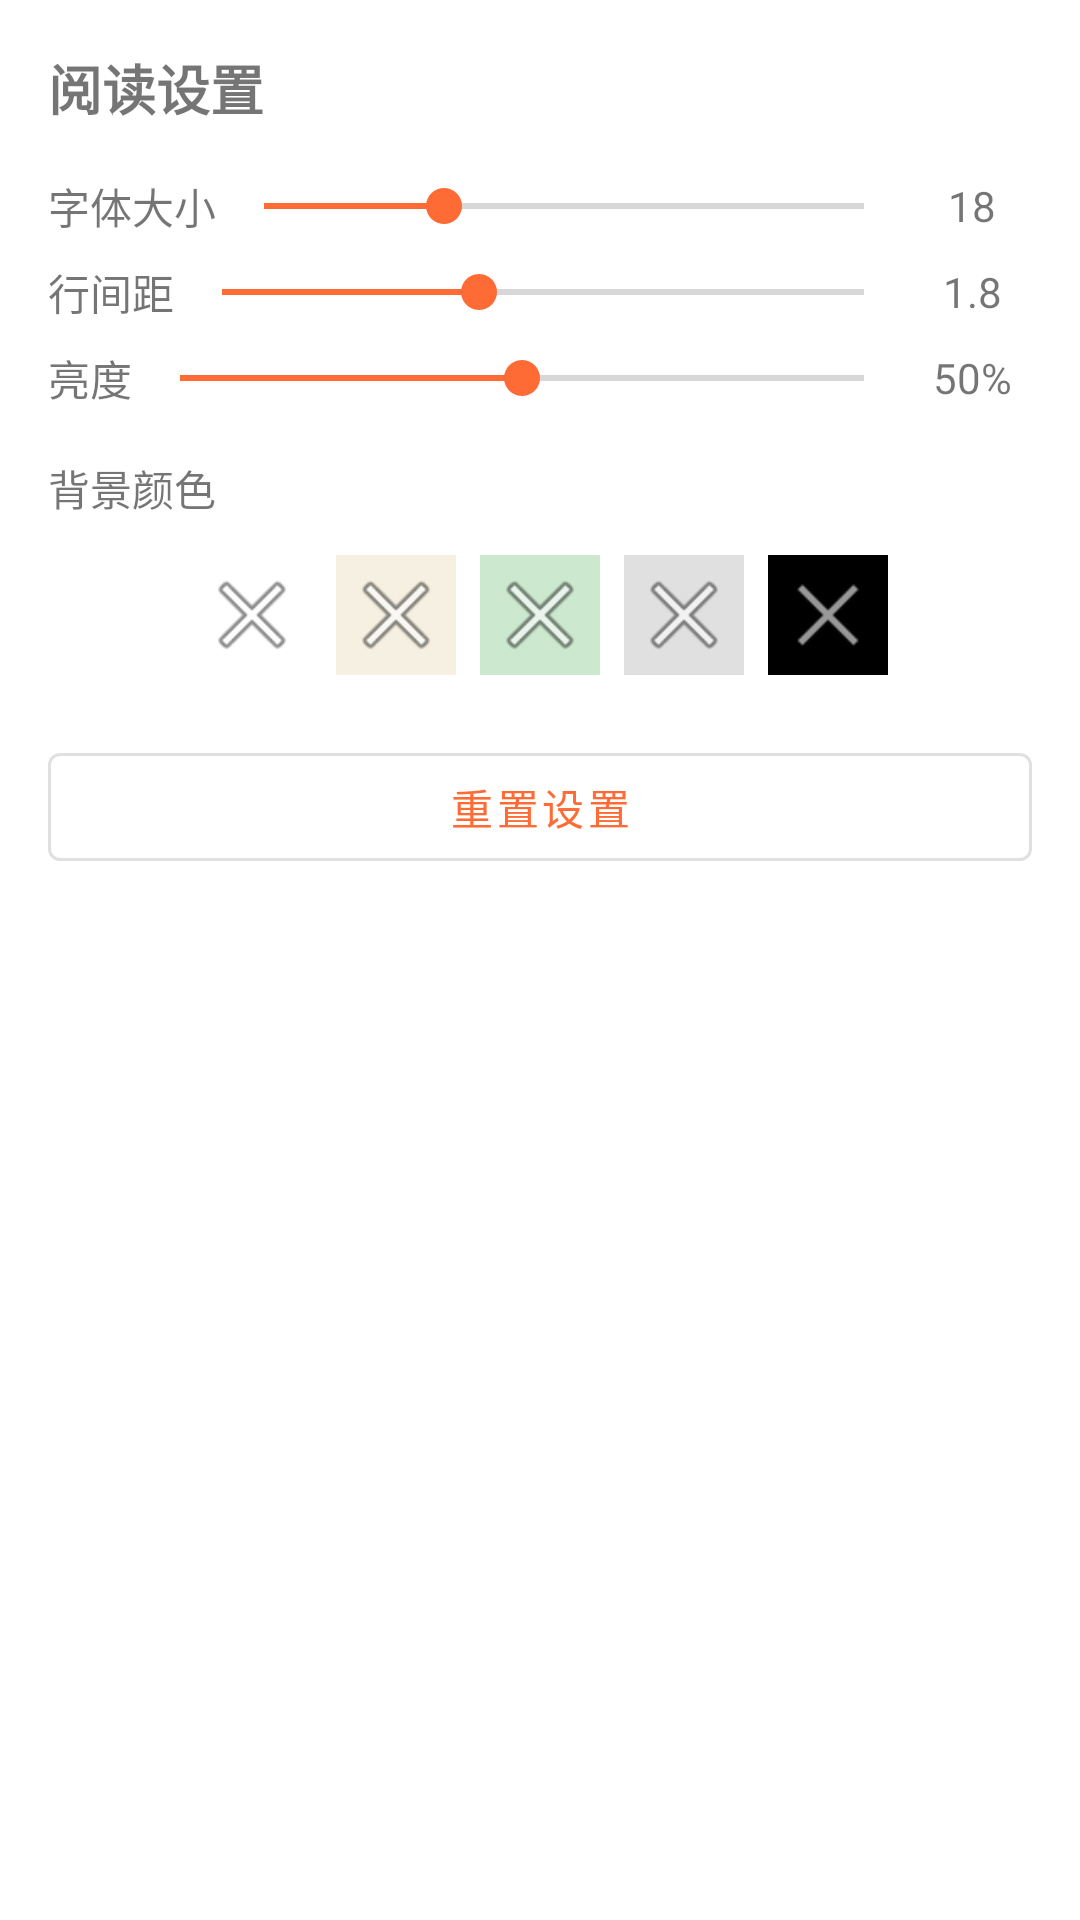

Locate icon controls on the screen. Image size 1080×1920, boxes as (x1, y1, x2, y2).
护眼色: (336, 555, 456, 675)
灰色: (624, 555, 744, 675)
白色: (218, 581, 286, 649)
绿色: (480, 555, 600, 675)
黑色: (768, 555, 888, 675)
